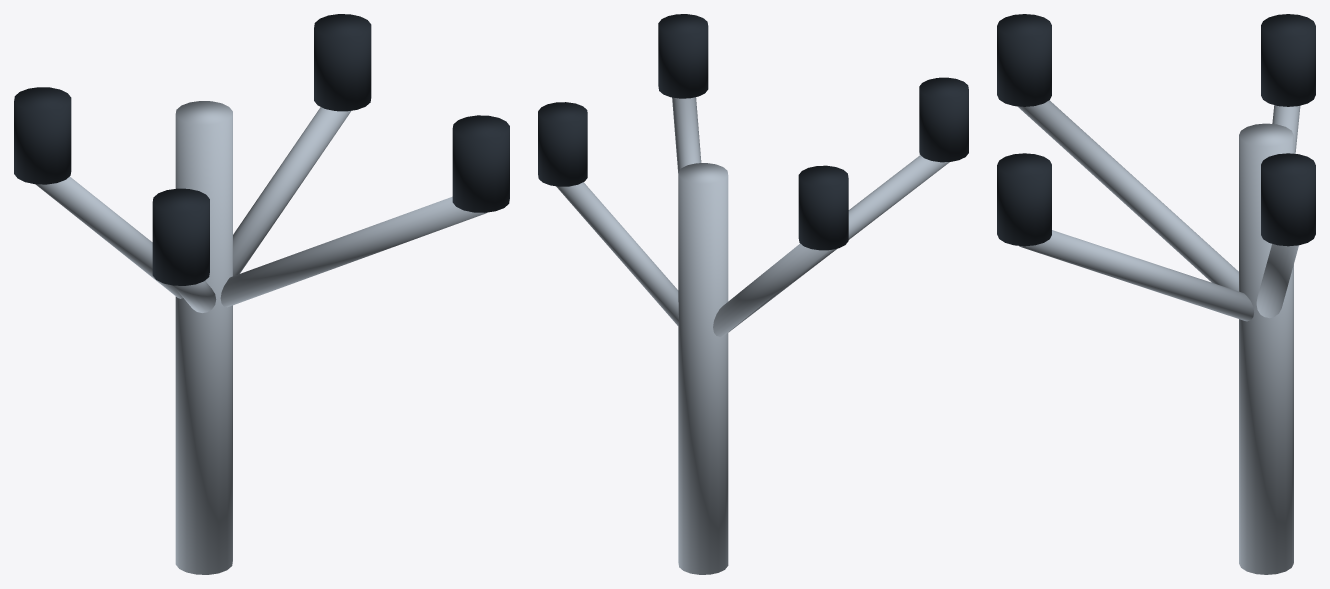
Rendered from wind.glb.
The picture shows the model from 3 angles, left to right: view 1: azimuth 30°, elevation 25°; view 2: azimuth 150°, elevation 25°; view 3: azimuth 270°, elevation 25°; orthographic projection. The views are drawn at different scales.
Visible parts, largest first — view 1: Support, Transducer; view 2: Support, Transducer; view 3: Support, Transducer.
Part boxes in pixels (x1,y1,x2,y2): Support: [36, 101, 487, 574]; Transducer: [14, 14, 509, 285]; Support: [556, 97, 949, 574]; Transducer: [538, 14, 968, 250]; Support: [1017, 100, 1300, 574]; Transducer: [997, 14, 1315, 246].
Size of the model in its own units: 0.35 by 0.47 by 0.29.
